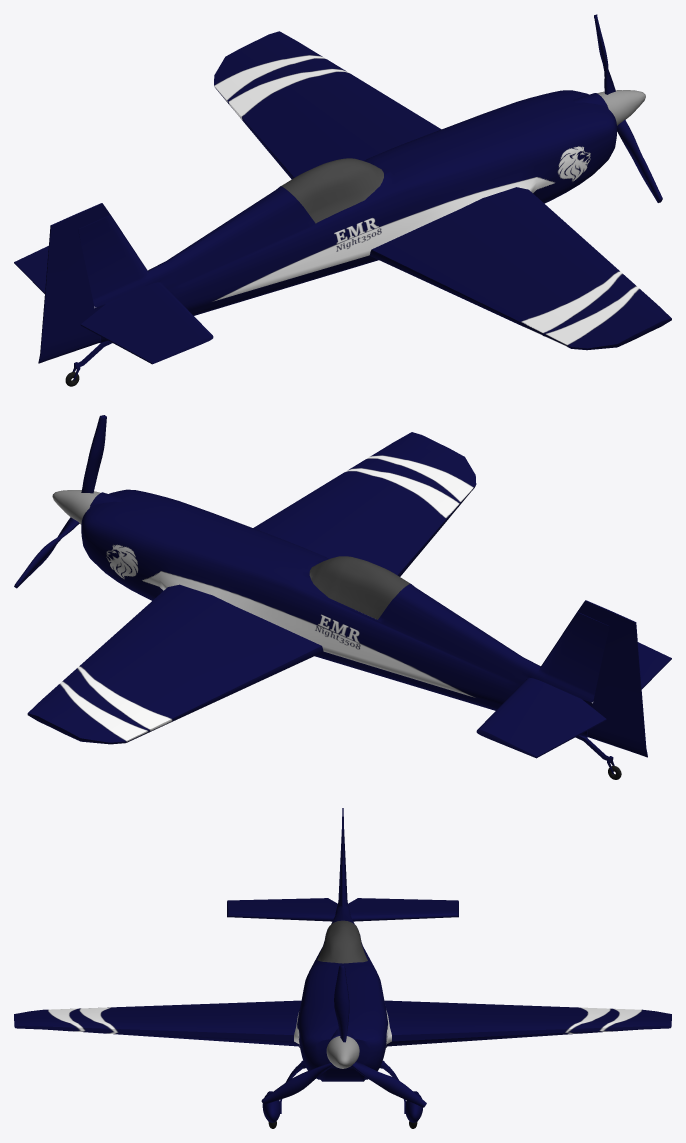
File: airplane2.glb
3 views of the same model, one above another, from view 1: azimuth 30°, elevation 25°; view 2: azimuth 150°, elevation 25°; view 3: azimuth 270°, elevation 25° (orthographic). The views are drawn at different scales.
Visible parts, largest first — view 1: Body, Engine; view 2: Body, Engine; view 3: Body, Engine.
Boxes of the visible parts, left/top/right/bottom form: Body: left=14, top=31, right=671, bottom=386; Engine: left=594, top=14, right=662, bottom=202; Body: left=27, top=432, right=671, bottom=779; Engine: left=14, top=415, right=106, bottom=588; Body: left=14, top=808, right=671, bottom=1128; Engine: left=261, top=965, right=426, bottom=1107.
Size of the model in its own units: 19.55 by 7.5 by 21.9.
6 materials, 3 textured.
